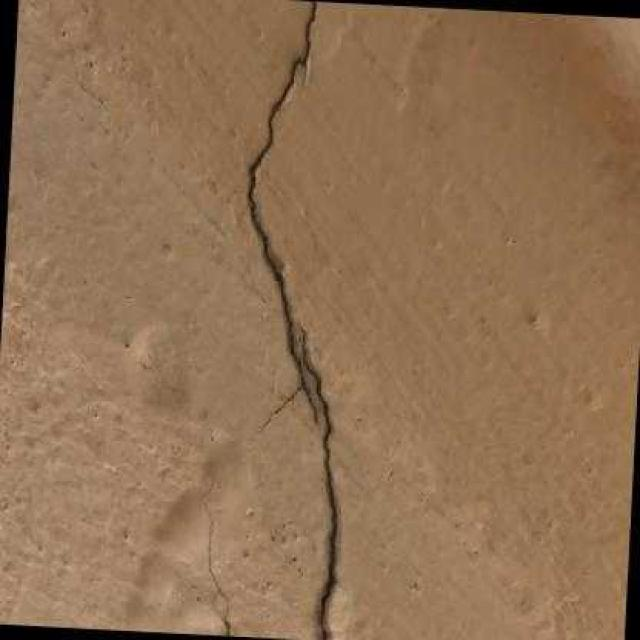D00: (243, 0, 318, 430), (293, 310, 337, 640)
